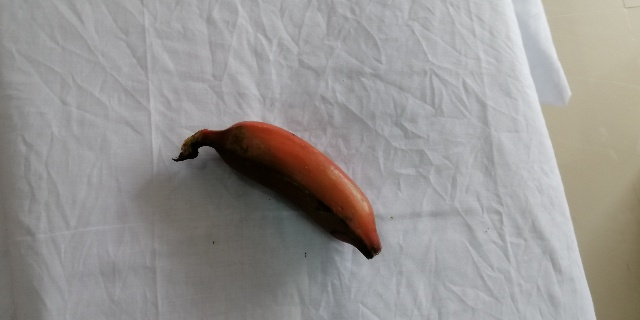banana_red: (181, 114, 391, 257)
